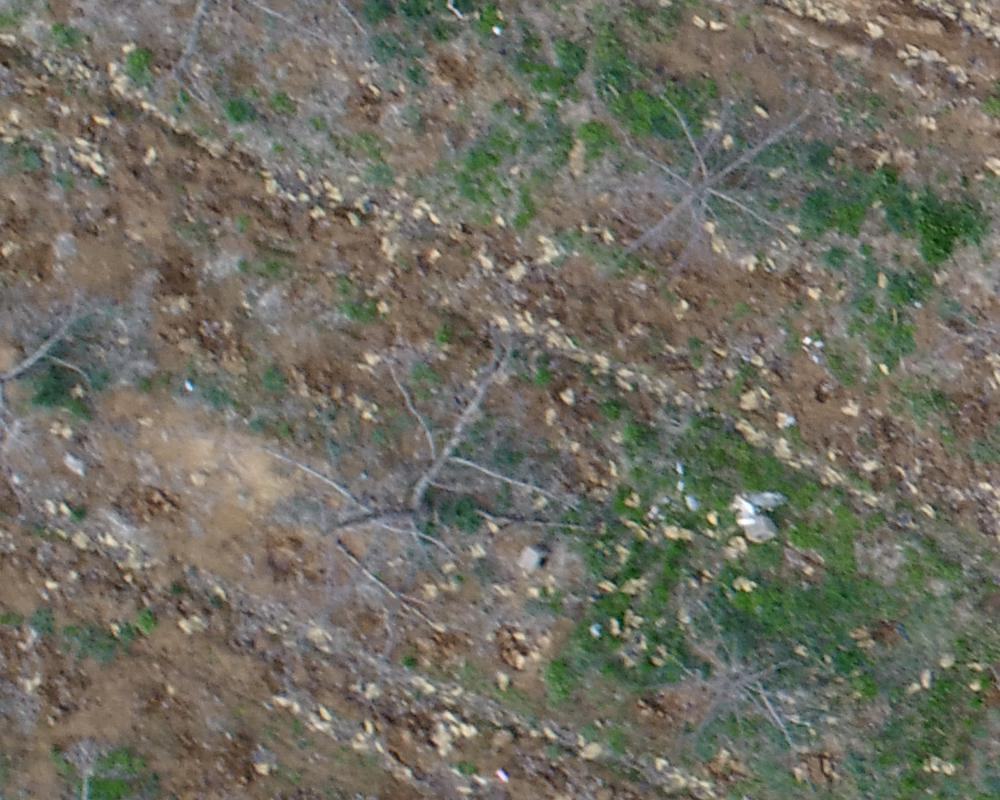apple: (249, 336, 591, 624), (554, 72, 847, 304), (649, 592, 852, 755), (10, 277, 116, 531)
